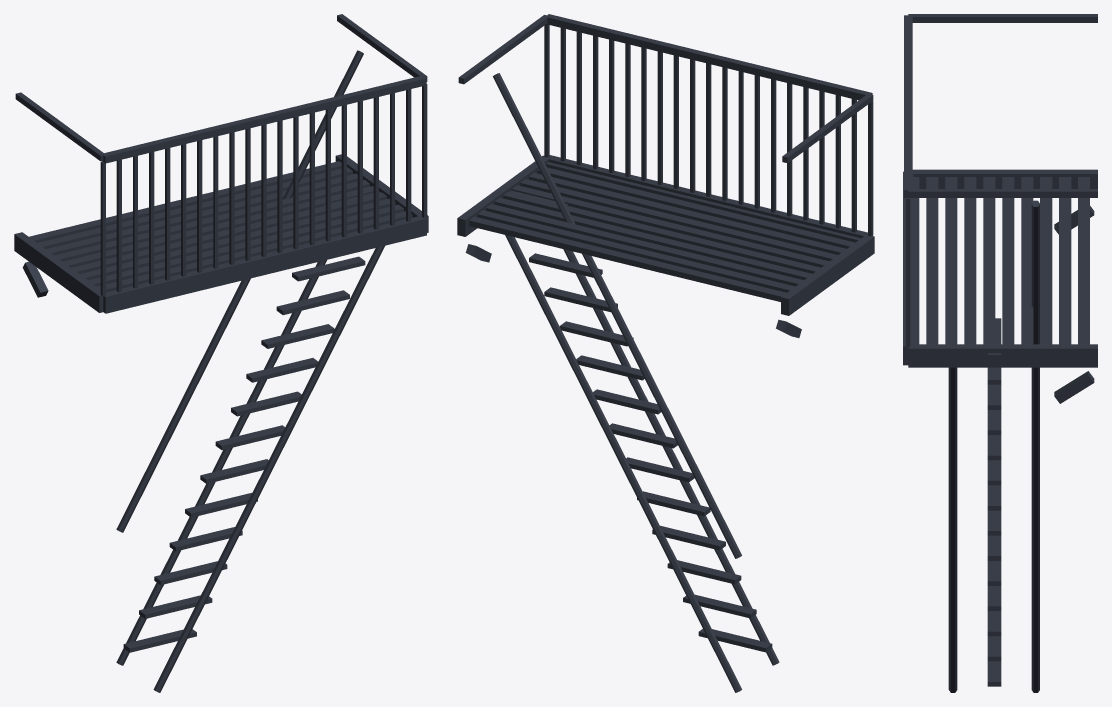
The model's file is fire_escape.glb.
3 views of the same model, side by side, from view 1: azimuth 30°, elevation 25°; view 2: azimuth 150°, elevation 25°; view 3: azimuth 270°, elevation 25° (orthographic). The views are drawn at different scales.
Visible parts, largest first — view 1: fire_escape; view 2: fire_escape; view 3: fire_escape.
Boxes of the visible parts, left/top/right/bottom form: fire_escape: left=14, top=14, right=428, bottom=692; fire_escape: left=457, top=14, right=874, bottom=692; fire_escape: left=903, top=14, right=1097, bottom=692.
Bounding box in the file's own units: 2.48 × 4.07 × 1.13.
Materials: 1 (1 with a texture image).
